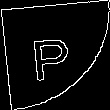P_N: (32, 28, 78, 82)
